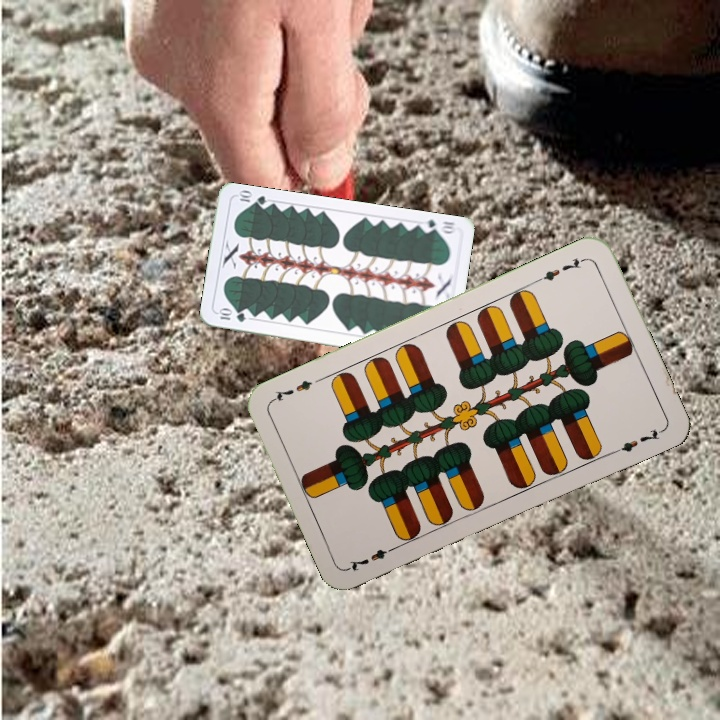E7: (344, 541, 400, 574), (533, 253, 589, 285)
G10: (417, 215, 459, 236), (215, 306, 249, 325)
